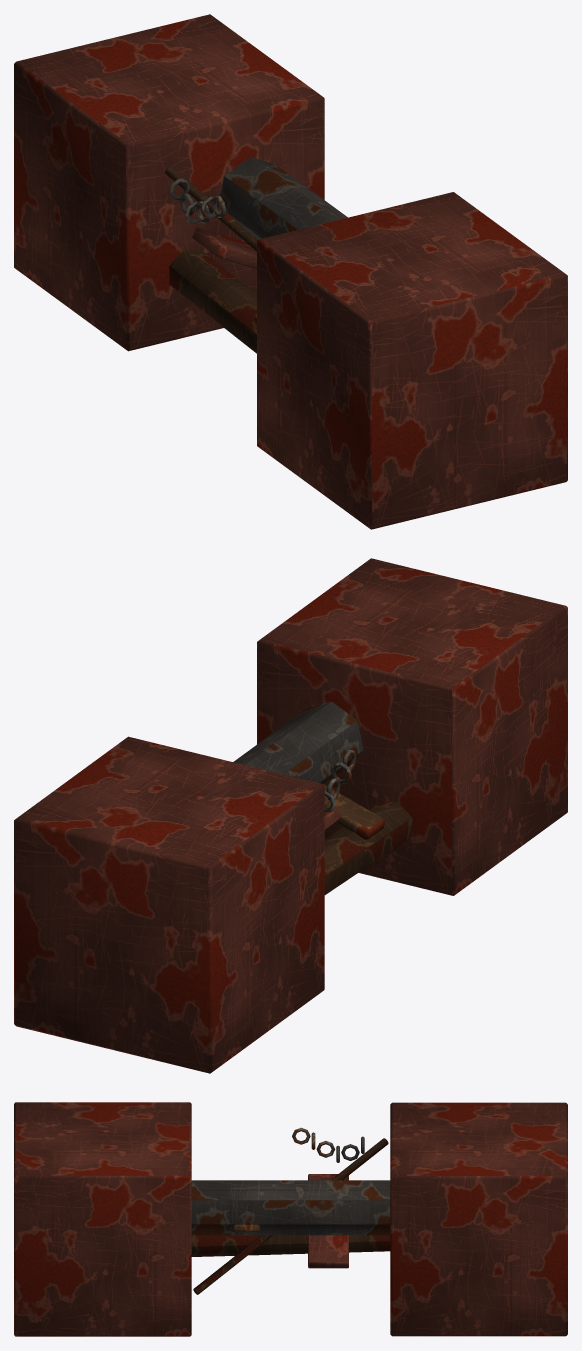
File: R4C_STRUT_STANDARD.glb
3 renders of one model, top to bottom at view 1: azimuth 30°, elevation 25°; view 2: azimuth 150°, elevation 25°; view 3: azimuth 270°, elevation 25°, orthographic. The views are drawn at different scales.
Visible parts, largest first — view 1: R4C_STRUT_STANDARD; view 2: R4C_STRUT_STANDARD; view 3: R4C_STRUT_STANDARD.
Boxes of the visible parts, x1,y1,x2,y2 form: R4C_STRUT_STANDARD: (14,14,567,529); R4C_STRUT_STANDARD: (14,558,567,1073); R4C_STRUT_STANDARD: (14,1102,567,1336).
Bounding box in the file's own units: 0.52 × 0.52 × 1.62.
3 materials, 3 textured.
